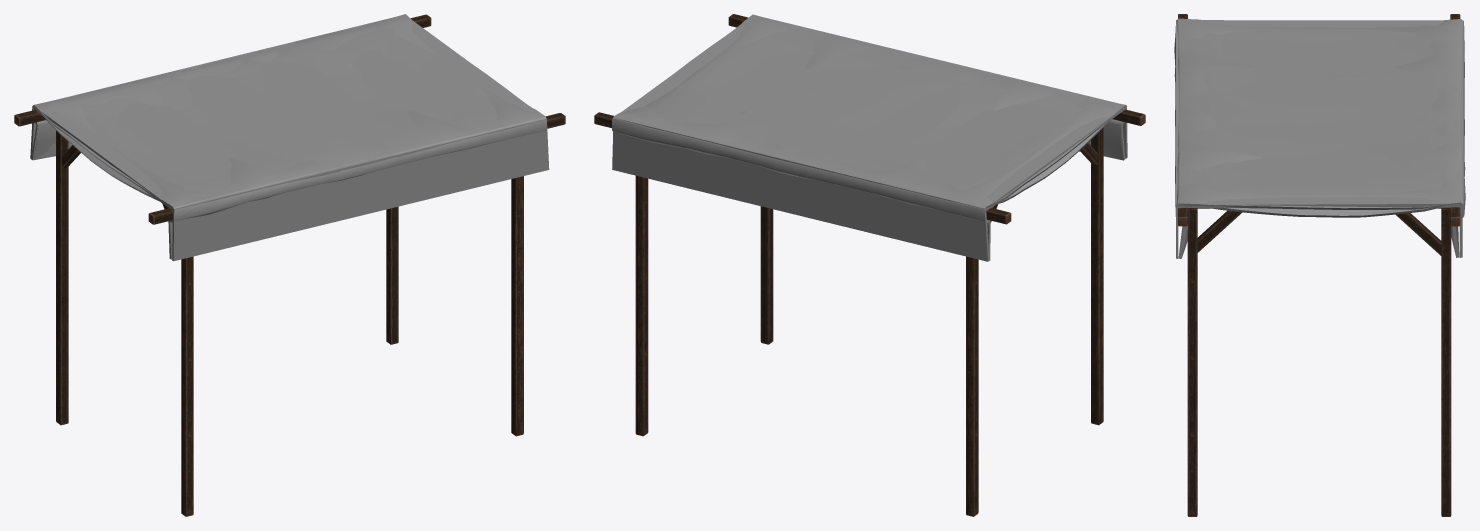
File: MarketStall02b.glb
3 views of the same model, side by side, from view 1: azimuth 30°, elevation 25°; view 2: azimuth 150°, elevation 25°; view 3: azimuth 270°, elevation 25° (orthographic).
Parts seen in each view (by area): view 1: MarketStall02b_Cloth, MarketStall2_Frame; view 2: MarketStall02b_Cloth, MarketStall2_Frame; view 3: MarketStall02b_Cloth, MarketStall2_Frame.
Part boxes in pixels (bbox=[...]): MarketStall02b_Cloth: bbox=[30, 14, 549, 261]; MarketStall2_Frame: bbox=[14, 14, 565, 516]; MarketStall02b_Cloth: bbox=[612, 14, 1127, 261]; MarketStall2_Frame: bbox=[594, 14, 1145, 516]; MarketStall02b_Cloth: bbox=[1174, 18, 1465, 258]; MarketStall2_Frame: bbox=[1178, 14, 1460, 516].
Size of the model in its own units: 4.34 by 3.21 by 2.61.
2 materials, 1 textured.
